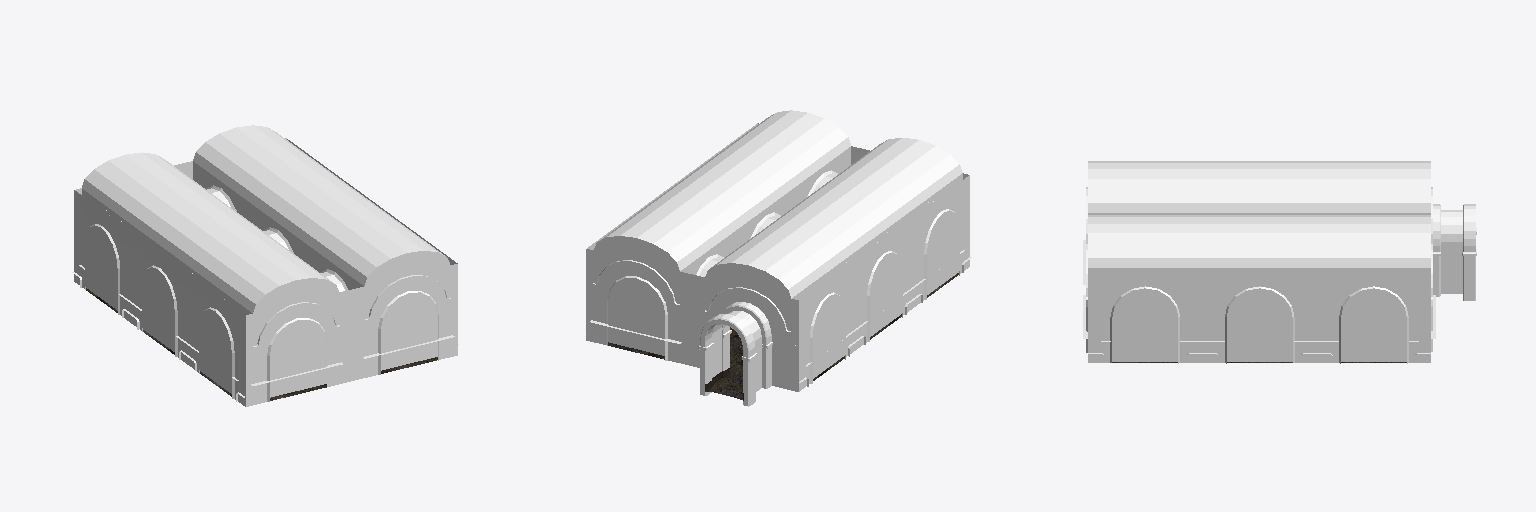
3 renders of one model, left to right at view 1: azimuth 30°, elevation 25°; view 2: azimuth 150°, elevation 25°; view 3: azimuth 270°, elevation 25°, orthographic.
Parts seen in each view (by area): view 1: mesh5, mesh1, mesh0, mesh4; view 2: mesh5, mesh1, mesh2, mesh4, mesh0; view 3: mesh5, mesh1, mesh0, mesh2.
Part boxes in pixels (left/top/right/bottom): mesh5: left=74, top=125, right=457, bottom=406; mesh1: left=85, top=225, right=437, bottom=396; mesh0: left=72, top=210, right=458, bottom=401; mesh4: left=86, top=288, right=437, bottom=400; mesh5: left=586, top=110, right=969, bottom=391; mesh1: left=608, top=210, right=959, bottom=406; mesh2: left=698, top=302, right=772, bottom=361; mesh4: left=608, top=273, right=958, bottom=397; mesh0: left=585, top=202, right=971, bottom=386; mesh5: left=1086, top=161, right=1462, bottom=363; mesh1: left=1112, top=256, right=1475, bottom=358; mesh0: left=1083, top=240, right=1435, bottom=361; mesh2: left=1433, top=204, right=1476, bottom=255.
Size of the model in its own units: 8.76 by 4.61 by 13.79.
6 materials, 2 textured.